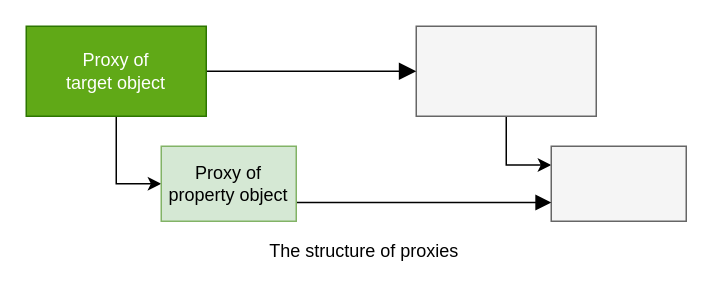
This 713x293 diagram has some shape labels left out. Here are the shapes that lost their labels. From the top down, the centre of each, then its label:
At [505,70]: "Target object".
At [618,183]: "property object".
